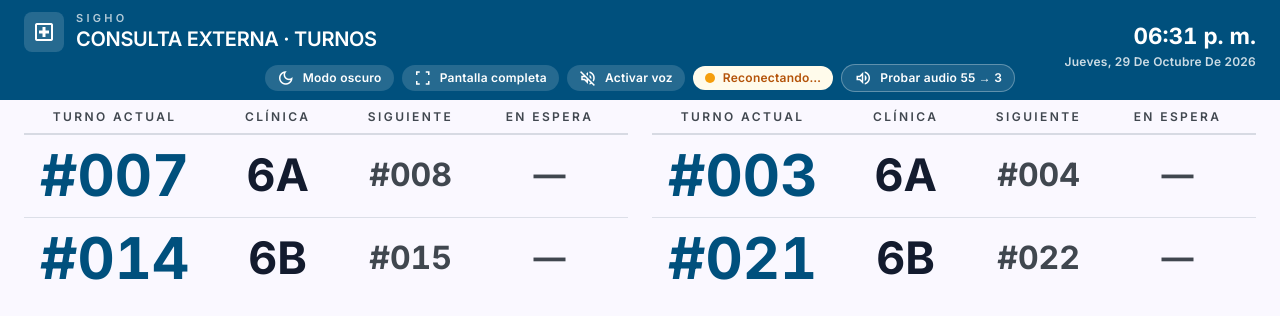
Test case: TableroPage › comienza con la voz desactivada y la activa sin reproducir audio
Expected: the element with test id "tablero-tabla" is shown, [23, 108, 1256, 299]
Click the button "Activar voz".
click(626, 78)  # box [567, 65, 685, 91]
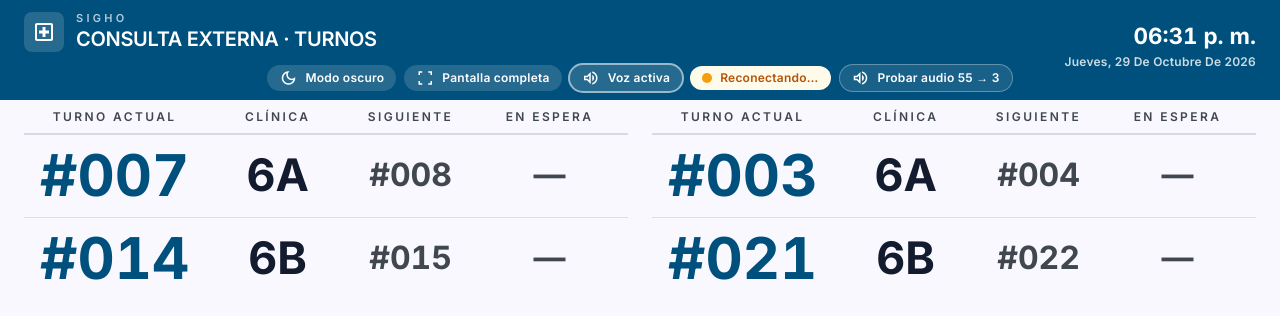
Expected: the button "Voz activa" is shown, [570, 65, 682, 91]
